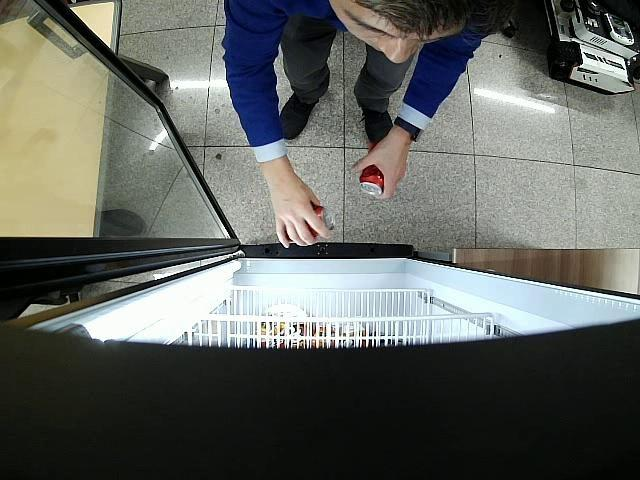11_cocaColaZero: (359, 140, 385, 194), (305, 206, 337, 240)
